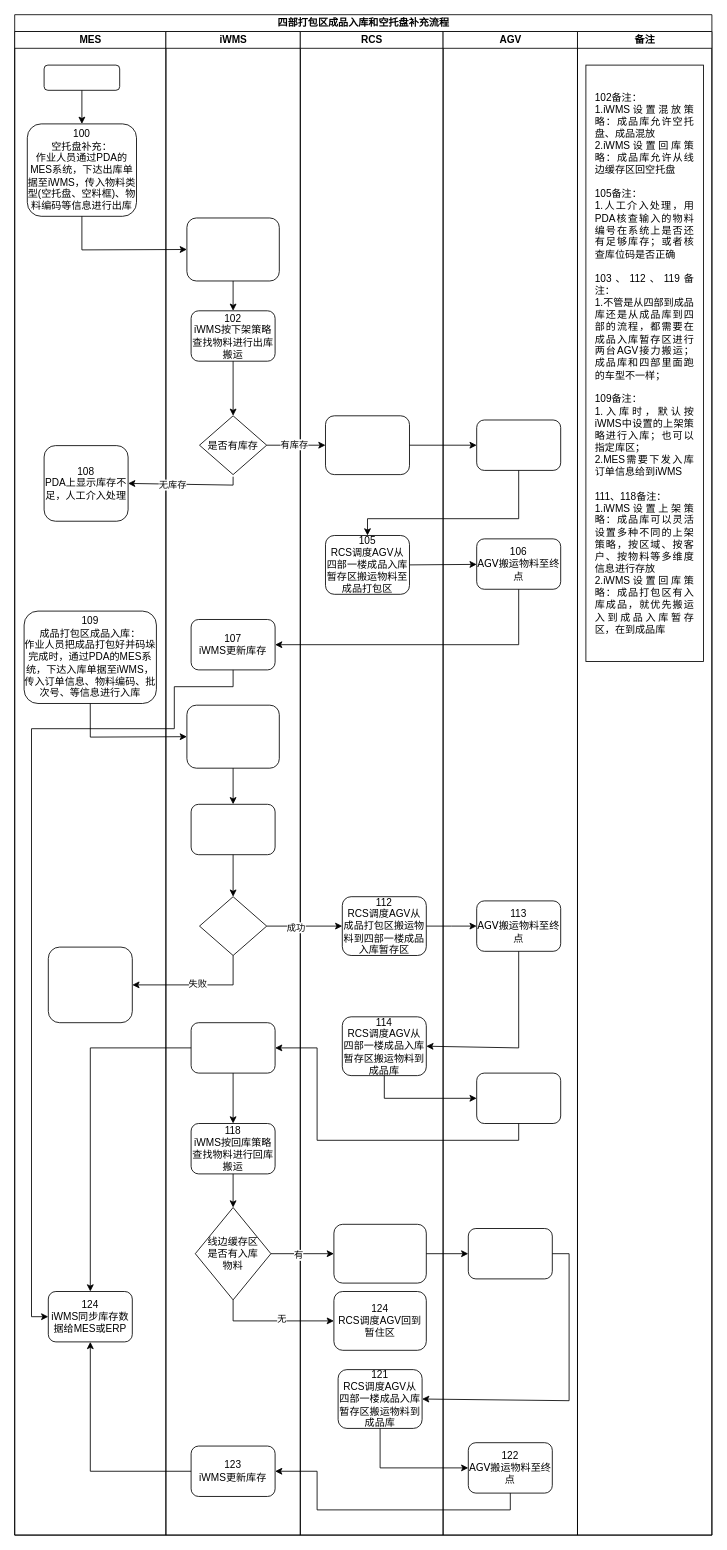
Image size: 727x1550. Some labels were removed from this diagram. The box of each missing label's shape, as (x1, y1, x2, y2) in pixels:
101 iWMS接受订单，存入订单池: (186, 217, 279, 281)
103 RCS调度AGV从成品库搬运物料四部一楼成品入库暂存区: (325, 415, 410, 475)
104 AGV搬运物料至终点: (476, 419, 561, 470)
110 iWMS接受订单，存入订单池: (186, 704, 279, 768)
111 iWMS按上架策略查找物料进行入库搬运: (190, 803, 275, 855)
115 AGV搬运物料至终点: (476, 1072, 561, 1124)
116 iWMS更新库存: (190, 1022, 275, 1073)
117 PDA上显示入库失败，人工介入处理: (47, 946, 132, 1023)
119 RCS调度AGV从 成品打包区 搬运物料到四部一楼成品入库暂存区: (333, 1223, 426, 1283)
120 AGV搬运物料至终点: (467, 1228, 552, 1279)
入库状态: (199, 896, 267, 956)
开始: (43, 64, 120, 90)
